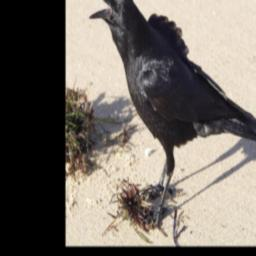Crow: (88, 0, 256, 233)
